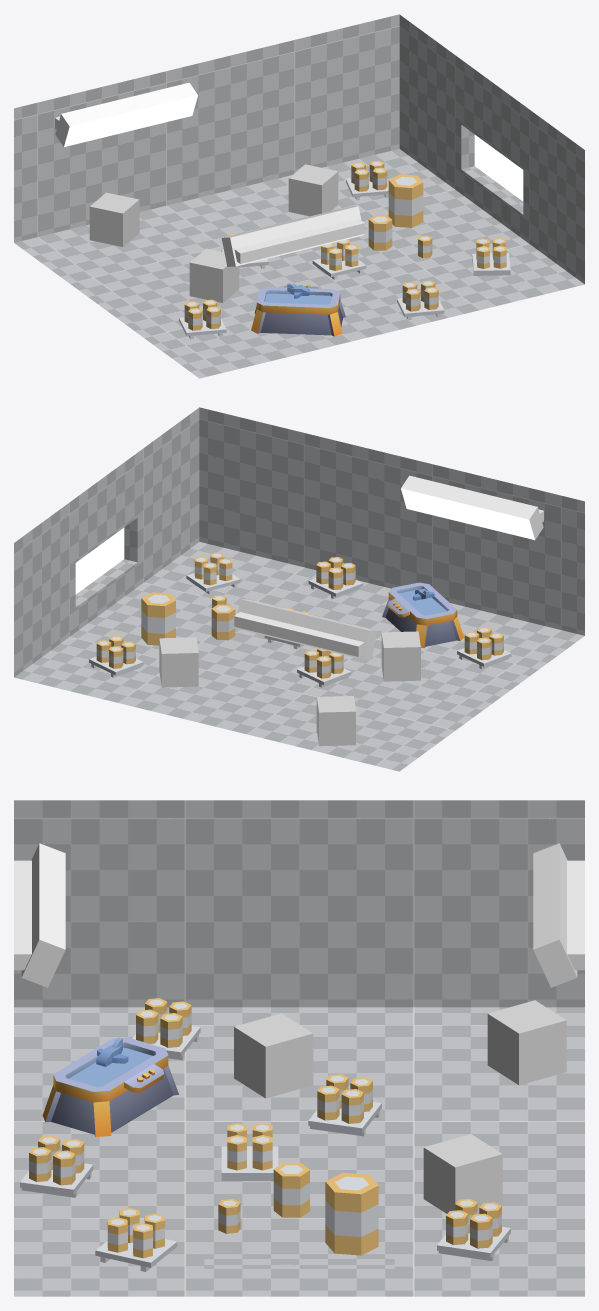
File: Level.glb
The picture shows the model from 3 angles, top to bottom: view 1: azimuth 30°, elevation 25°; view 2: azimuth 150°, elevation 25°; view 3: azimuth 270°, elevation 25°; orthographic projection. The views are drawn at different scales.
Visible parts, largest first — view 1: Room[StaticBody3D], Cube (×2), table-display, barrel (×2), StaticBody3D.002, StaticBody3D.001, StaticBody3D.004, StaticBody3D, barrels (×2); view 2: Room[StaticBody3D], Cube (×2), table-display, barrel (×2), StaticBody3D.004, StaticBody3D.001, StaticBody3D, StaticBody3D.002, barrels; view 3: Room[StaticBody3D], Cube (×2), table-display, barrel (×3), StaticBody3D.002, StaticBody3D, barrels (×5), StaticBody3D.001, barrel.001 (×6), StaticBody3D.004 (×2), barrel.002 (×5), barrel.003.
Part boxes in pixels (x1=…): Room[StaticBody3D]: x1=14, y1=14, x2=584, y2=378; Cube (×2): x1=55, y1=82, x2=364, y2=266; table-display: x1=251, y1=284, x2=345, y2=336; barrel (×2): x1=368, y1=174, x2=423, y2=250; StaticBody3D.002: x1=89, y1=192, x2=139, y2=246; StaticBody3D.001: x1=288, y1=164, x2=338, y2=216; StaticBody3D.004: x1=234, y1=219, x2=364, y2=263; StaticBody3D: x1=189, y1=248, x2=239, y2=302; barrels (×2): x1=312, y1=253, x2=510, y2=279; Room[StaticBody3D]: x1=14, y1=407, x2=584, y2=771; Cube (×2): x1=234, y1=475, x2=543, y2=659; table-display: x1=382, y1=582, x2=463, y2=647; barrel (×2): x1=141, y1=592, x2=235, y2=645; StaticBody3D.004: x1=234, y1=612, x2=364, y2=656; StaticBody3D.001: x1=159, y1=637, x2=198, y2=687; StaticBody3D: x1=381, y1=631, x2=420, y2=681; StaticBody3D.002: x1=316, y1=696, x2=355, y2=746; barrels: x1=186, y1=573, x2=240, y2=594; Room[StaticBody3D]: x1=14, y1=800, x2=584, y2=1296; Cube (×2): x1=21, y1=843, x2=577, y2=987; table-display: x1=42, y1=1037, x2=179, y2=1136; barrel (×3): x1=218, y1=1163, x2=378, y2=1255; StaticBody3D.002: x1=487, y1=1000, x2=566, y2=1085; StaticBody3D: x1=234, y1=1013, x2=313, y2=1098; barrels (×5): x1=20, y1=1102, x2=510, y2=1271; StaticBody3D.001: x1=423, y1=1134, x2=502, y2=1213; barrel.001 (×6): x1=53, y1=1013, x2=492, y2=1252; StaticBody3D.004 (×2): x1=14, y1=860, x2=584, y2=970; barrel.002 (×5): x1=29, y1=1009, x2=468, y2=1244; barrel.003: x1=133, y1=1223, x2=152, y2=1258.
Size of the model in its own units: 6.21 by 2.01 by 5.
Materials: 9 (2 with a texture image).
